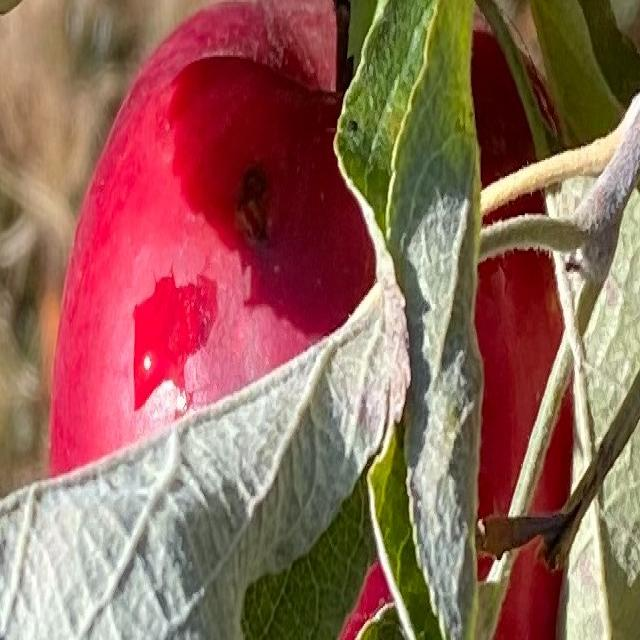100-_ripeness: (52, 0, 575, 640)
